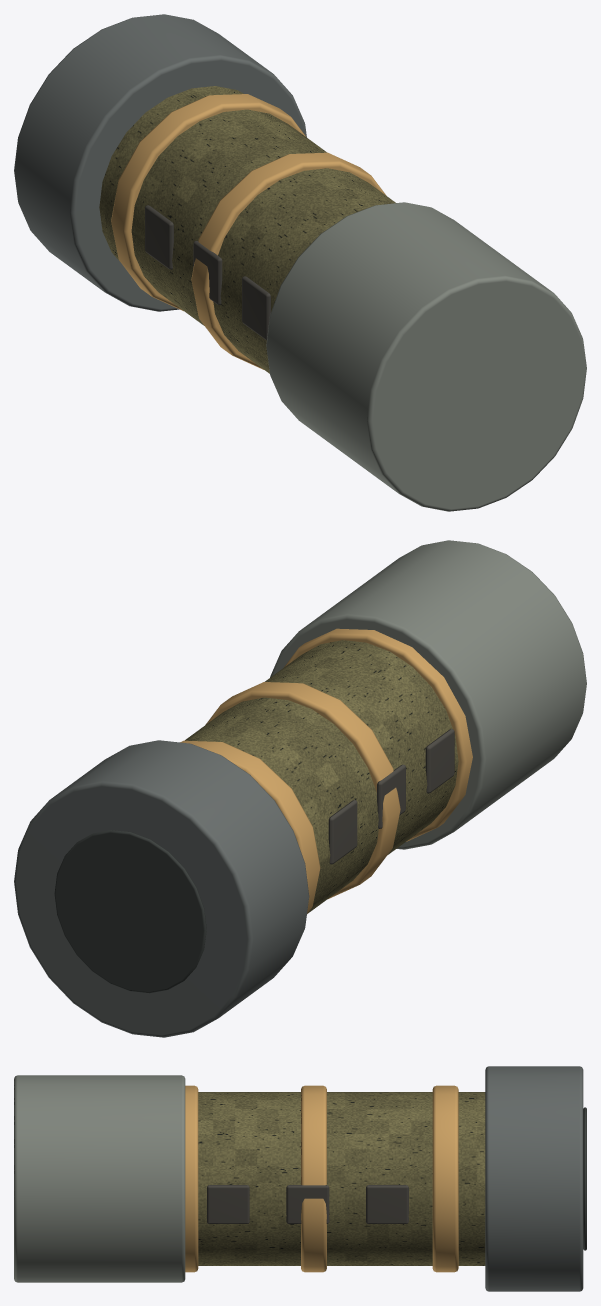
File: STK-G02.fbx
The picture shows the model from 3 angles, top to bottom: view 1: azimuth 30°, elevation 25°; view 2: azimuth 150°, elevation 25°; view 3: azimuth 270°, elevation 25°; orthographic projection. The views are drawn at different scales.
Visible parts, largest first — view 1: STK-G02_Edge, STK-G02_Steel, STK-G02_Armor, STK-G02_Brass, STK-G02_Soot; view 2: STK-G02_Steel, STK-G02_Edge, STK-G02_Armor, STK-G02_Rubber, STK-G02_Brass, STK-G02_Soot; view 3: STK-G02_Armor, STK-G02_Edge, STK-G02_Steel, STK-G02_Brass, STK-G02_Soot, STK-G02_Rubber.
Part boxes in pixels (x1,y1,x2,y2): STK-G02_Edge: [266, 202, 586, 511]; STK-G02_Steel: [14, 14, 306, 311]; STK-G02_Armor: [99, 86, 395, 373]; STK-G02_Brass: [111, 94, 386, 369]; STK-G02_Soot: [145, 205, 270, 340]; STK-G02_Steel: [14, 740, 309, 1037]; STK-G02_Edge: [270, 540, 586, 849]; STK-G02_Armor: [185, 640, 458, 913]; STK-G02_Rubber: [54, 830, 206, 993]; STK-G02_Brass: [180, 628, 472, 913]; STK-G02_Soot: [328, 729, 454, 864]; STK-G02_Armor: [198, 1092, 485, 1265]; STK-G02_Edge: [14, 1075, 185, 1282]; STK-G02_Steel: [485, 1066, 583, 1291]; STK-G02_Brass: [185, 1085, 458, 1272]; STK-G02_Soot: [207, 1185, 408, 1223]; STK-G02_Rubber: [583, 1107, 586, 1250].
Size of the model in its own units: 74 by 74 by 187.
